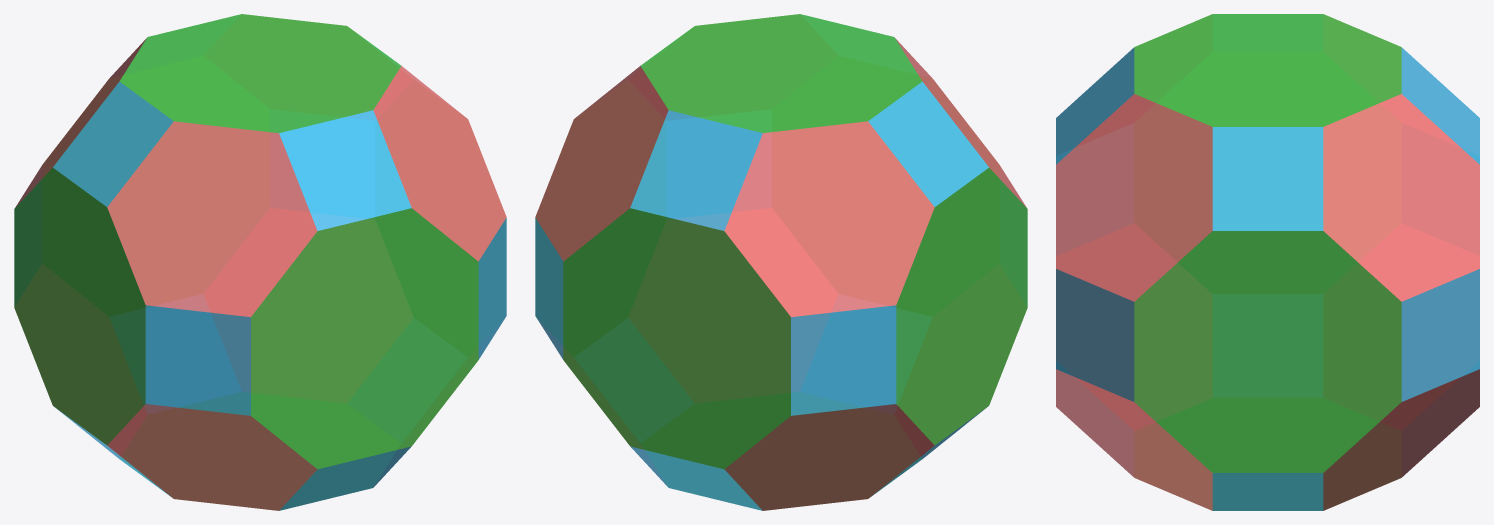
File: TruncatedCuboctahedron.obj
The picture shows the model from 3 angles, left to right: view 1: azimuth 30°, elevation 25°; view 2: azimuth 150°, elevation 25°; view 3: azimuth 270°, elevation 25°; orthographic projection.
Bounding box in the file's own units: 3.83 × 3.83 × 3.83.
